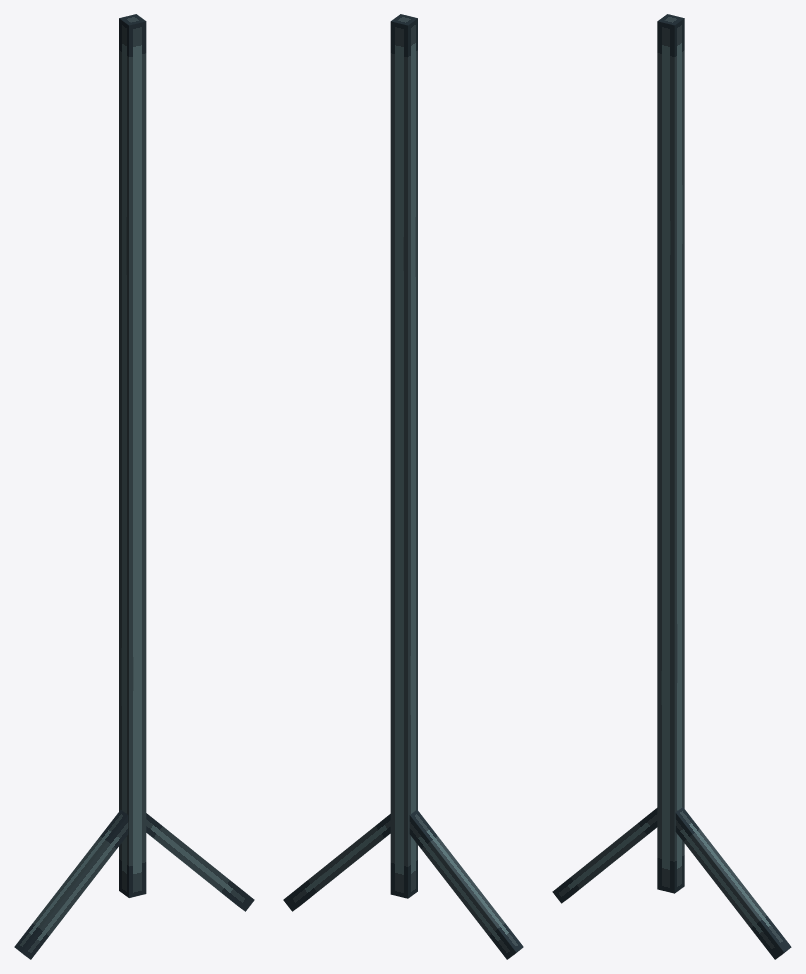
Rendered from stadiumlight.gltf.
3 renders of one model, left to right at view 1: azimuth 30°, elevation 25°; view 2: azimuth 150°, elevation 25°; view 3: azimuth 330°, elevation 25°, orthographic.
Visible parts, largest first — view 1: cube (×3); view 2: cube (×3); view 3: cube (×3).
Part boxes in pixels (box(x1,y1,x2,y2)): cube (×3): box(14, 14, 254, 959); cube (×3): box(283, 14, 523, 959); cube (×3): box(552, 14, 791, 959).
Bounding box in the file's own units: 3.35 × 12.59 × 0.25.
Materials: 1 (1 with a texture image).
